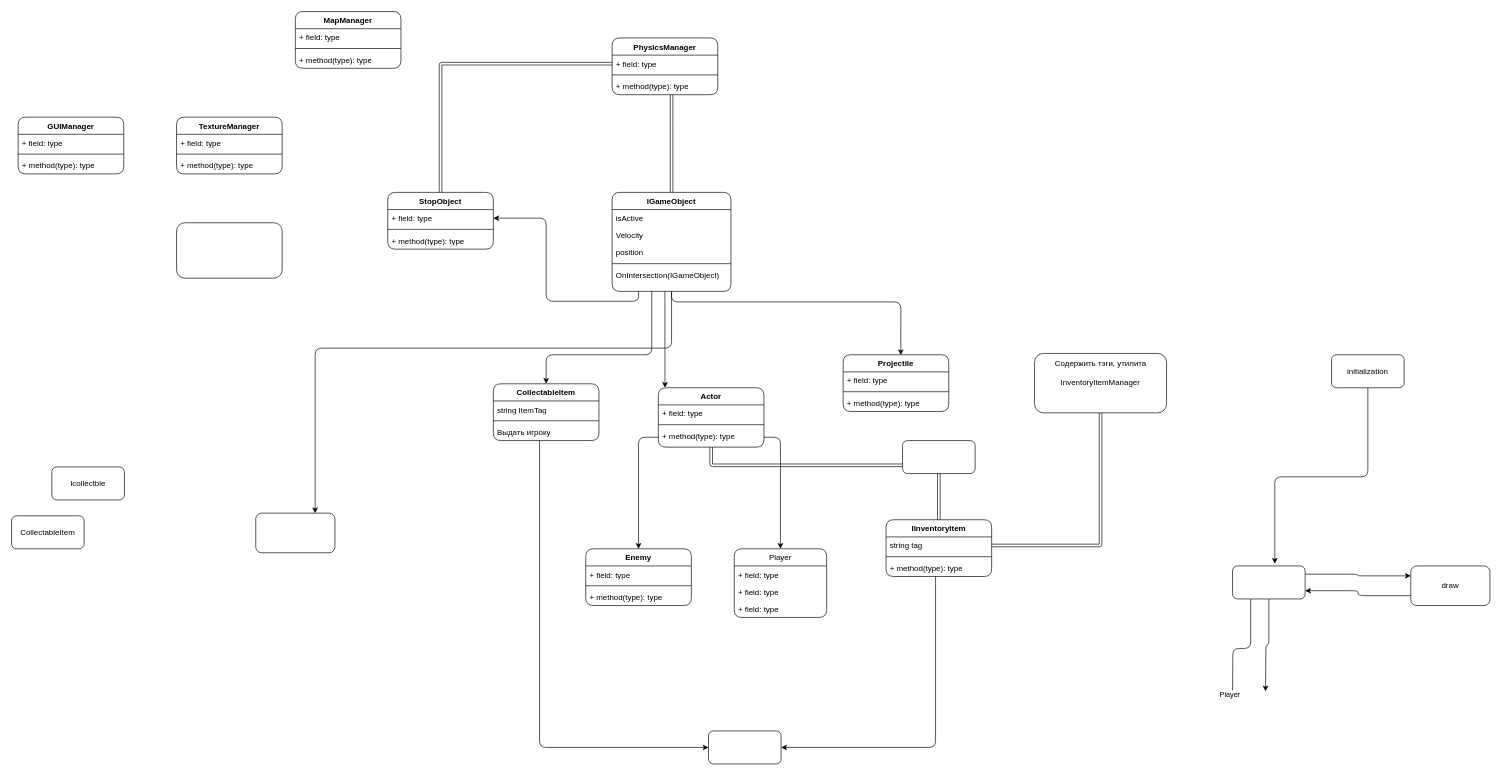
Image size: 1502x776. Some labels were removed from this diagram. Here are the shapes that lost their labels. From the top down, the centre of each, then its label:
(229,250): Object Created=> Object registers itself where he needs
(938,457): inventory
(295,532): Смертельные шипы
(1268,582): update
(744,747): gun
